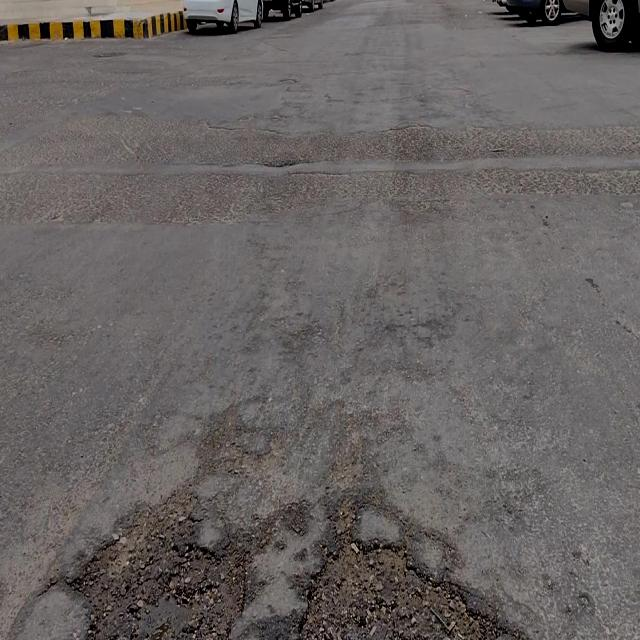Potholes: (57, 485, 247, 640), (288, 528, 525, 640)
